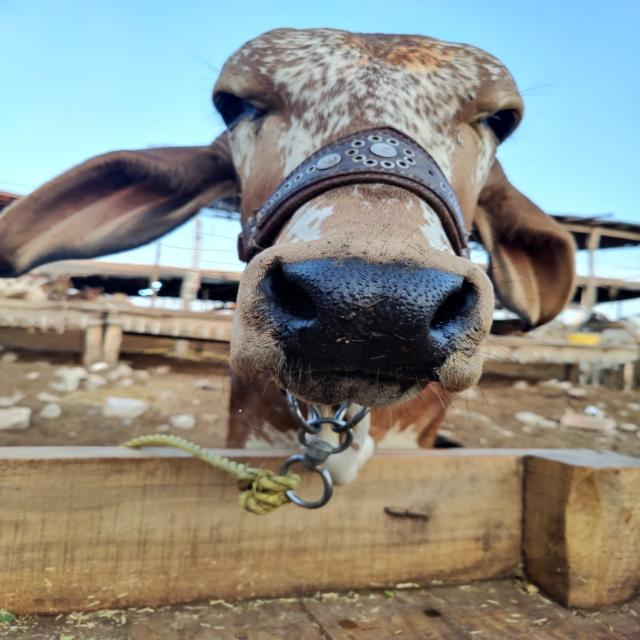muzzles: (255, 248, 492, 383)
